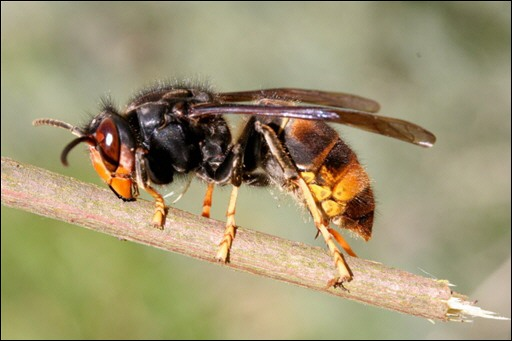hornet: (34, 63, 430, 260)
